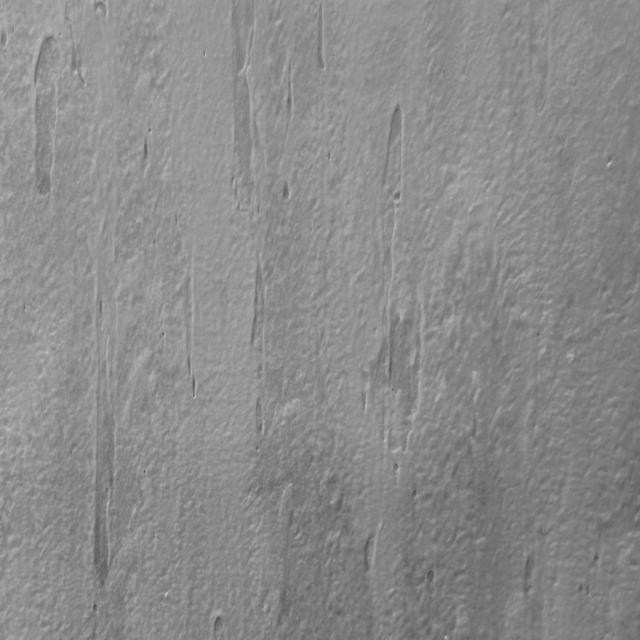pin holes: (211, 613, 230, 637), (93, 1, 110, 24), (1, 28, 13, 51), (278, 184, 292, 202), (360, 370, 371, 389), (391, 463, 404, 479), (255, 419, 267, 436), (0, 31, 9, 49), (146, 125, 155, 138)
